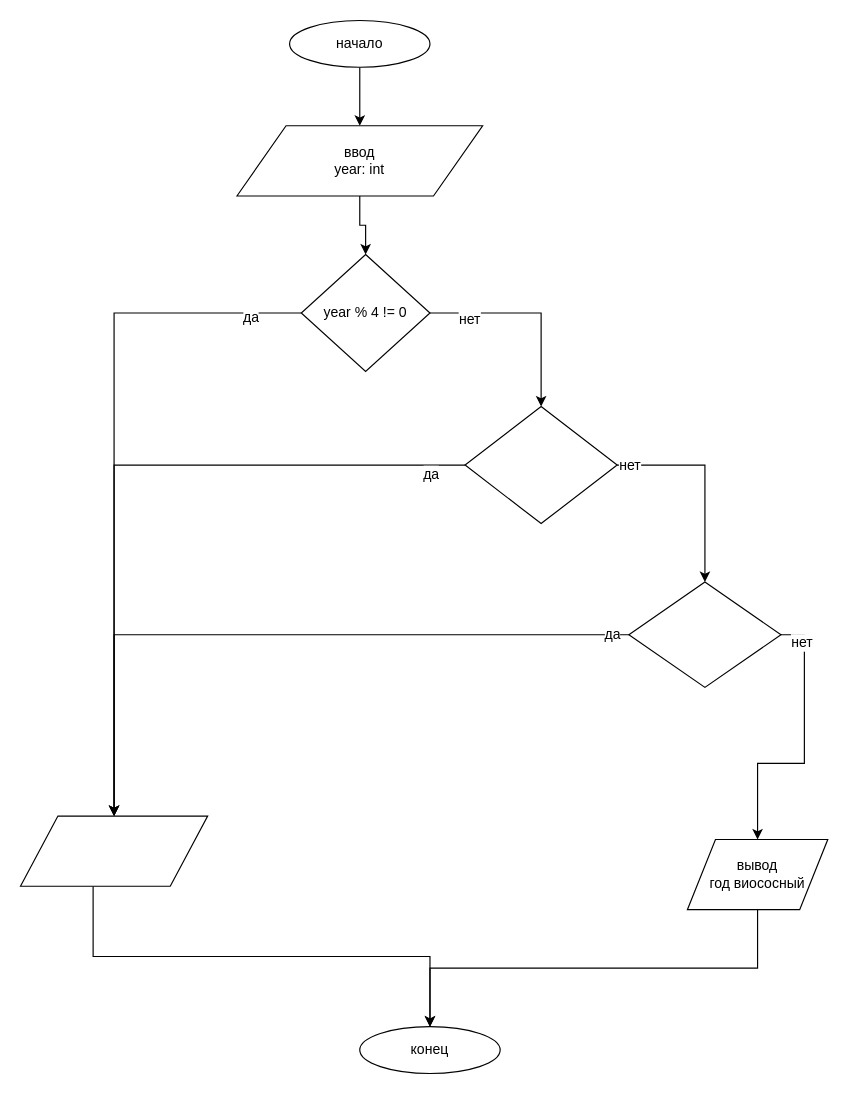
The diagram is 848 pixels wide and 1094 high, and some of its shapes have lost their labels. Each missing label, with the box of its shape:
year % 100 != 0: (464, 405, 617, 524)
year % 400 != 400: (628, 581, 781, 687)
вывод год обычный: (19, 815, 208, 886)
